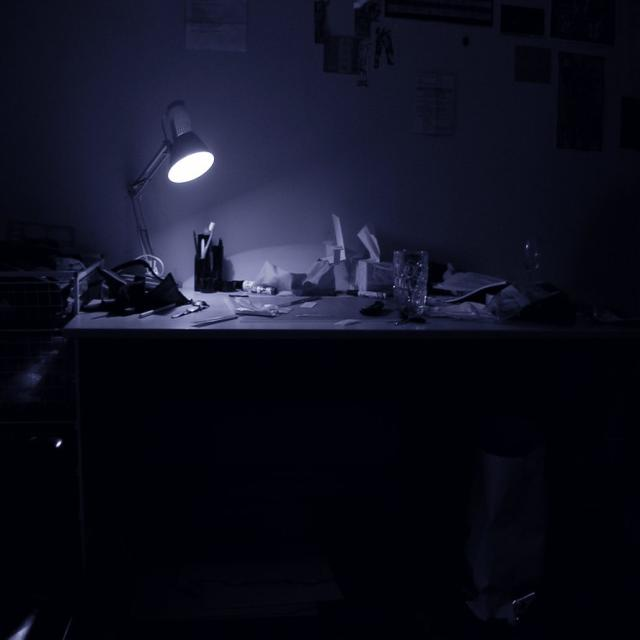Cup: (382, 230, 448, 330)
Table: (68, 253, 596, 591)
